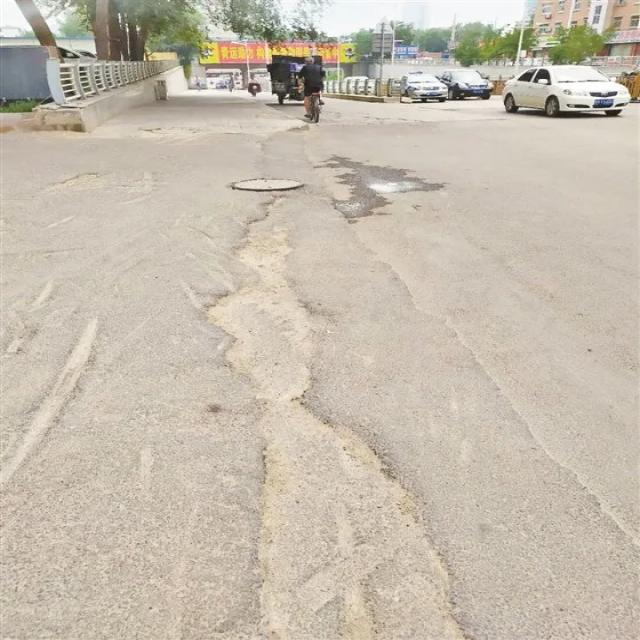Pothole: (199, 187, 494, 639)
